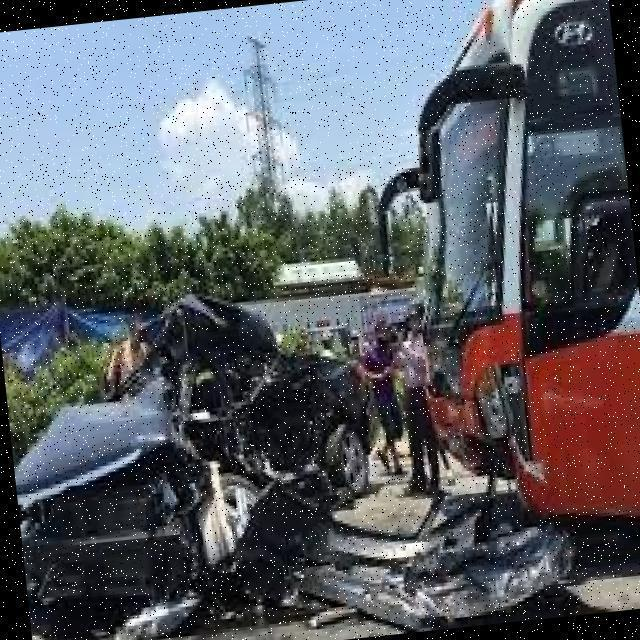accident: (0, 225, 595, 640)
